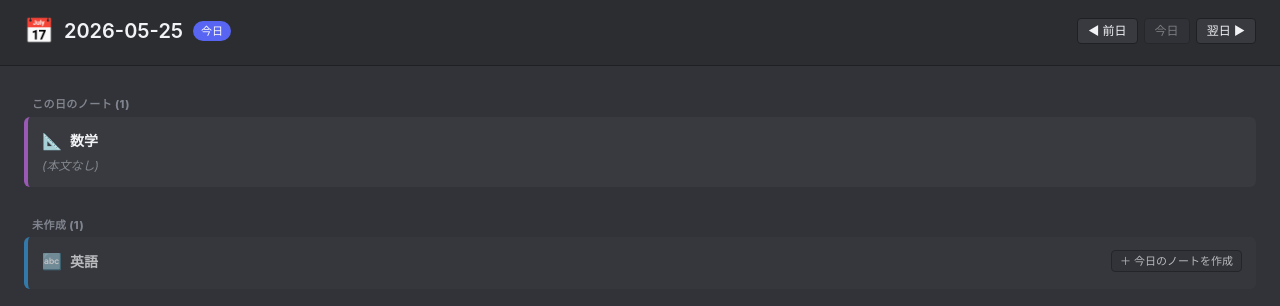
Test: DailyView – additional branches › navigating to today resets the today badge
Expected: the text "2026-05-25" is shown, [64,16,183,46]
# Navigate away
Click the button "◀ 前日": (1107, 31) [1077,18,1138,44]
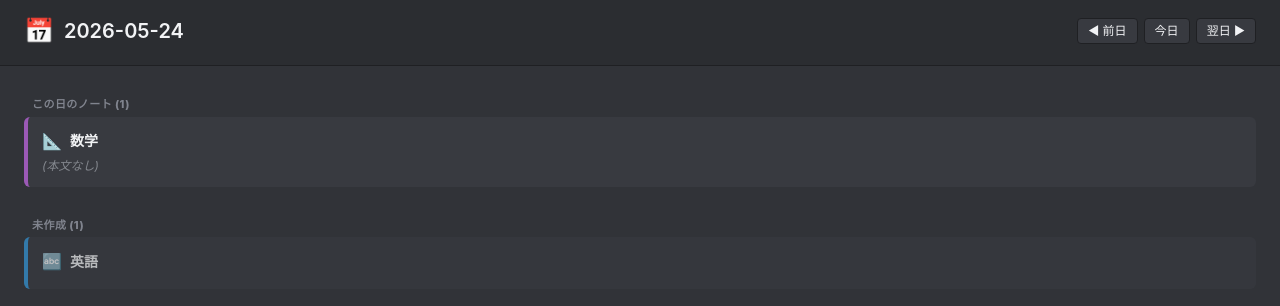
Click the button "今日": (1167, 31) [1144,18,1190,44]
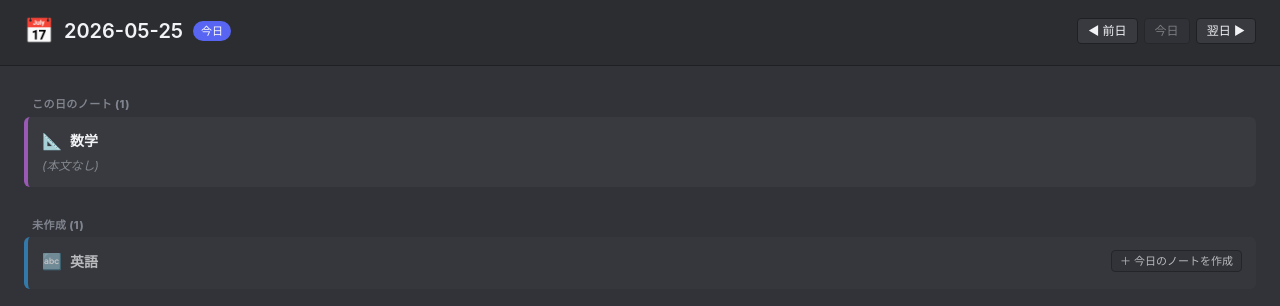
Expected: the text "2026-05-25" is shown, [64,16,183,46]
